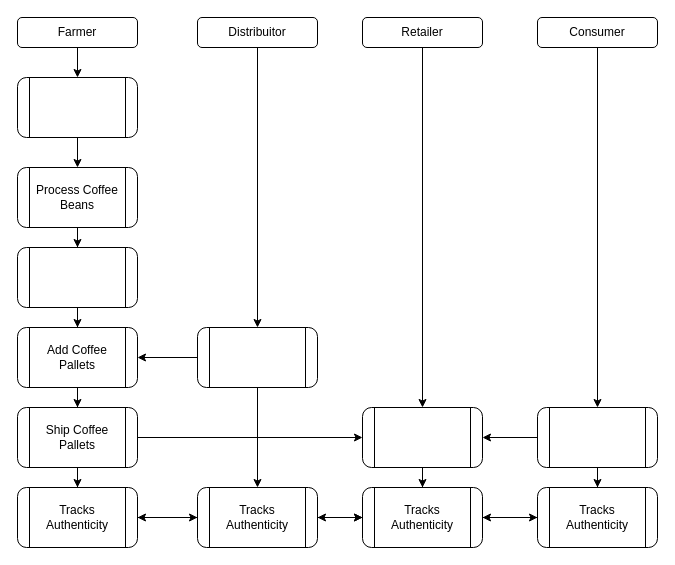
Image size: 675x565. Some labels were removed from this diagram. Here are the shapes that lost their labels. From the top down, the box of each, then its label:
(16, 76, 138, 138): Harvest Coffee Beans
(16, 246, 138, 308): Pack Coffee Pallets
(196, 326, 318, 388): Buy Coffee Pallets
(362, 406, 482, 468): Receive Coffee Pallets
(536, 406, 658, 468): Buy Coffee
